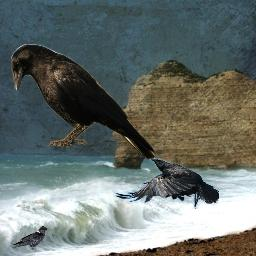Crow: (11, 44, 157, 160), (112, 157, 219, 209), (11, 226, 48, 252)
